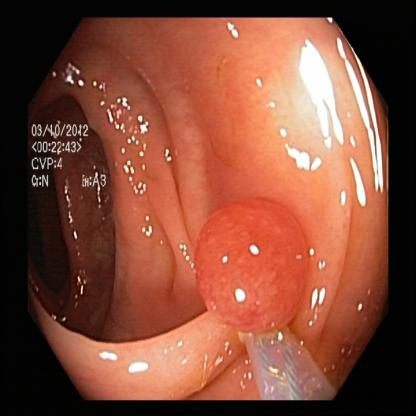Labels: (30, 110, 113, 198)
Polyps: (193, 194, 314, 340)
